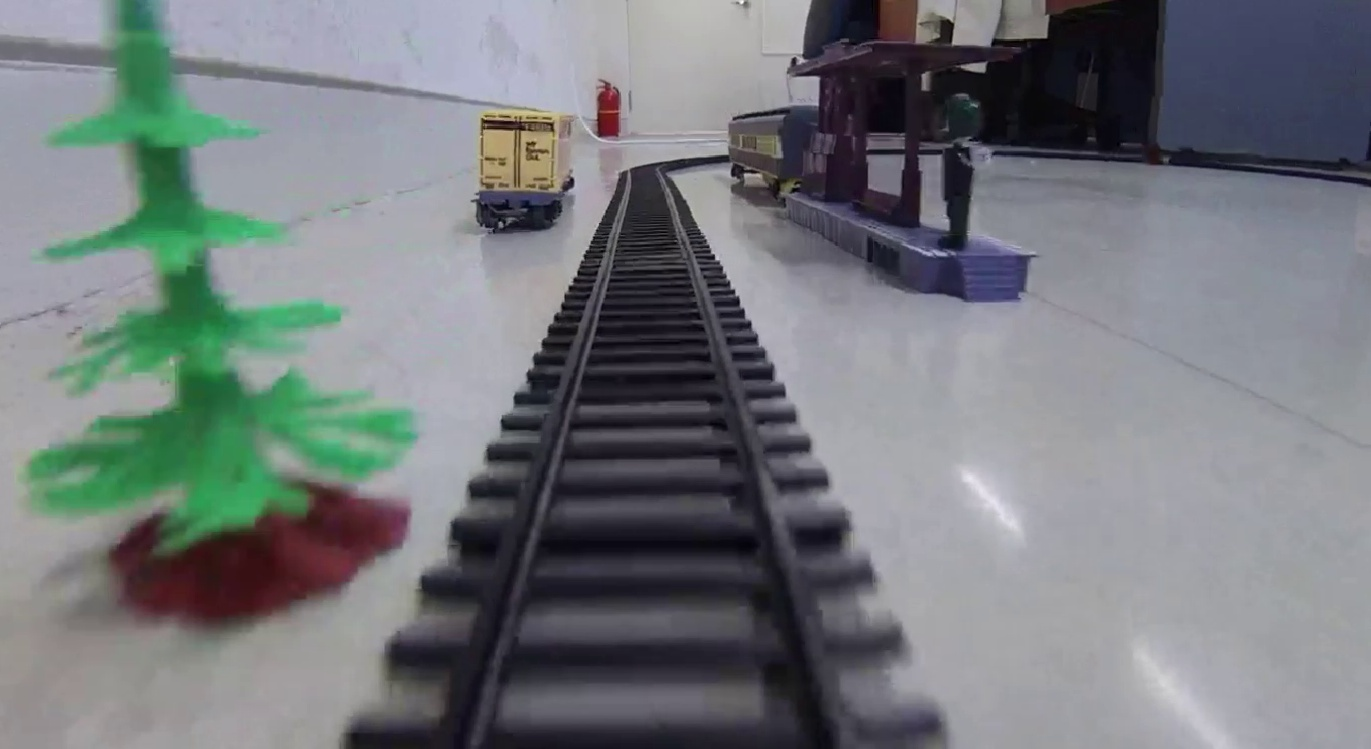people: (934, 89, 986, 252)
tree: (19, 3, 418, 633)
